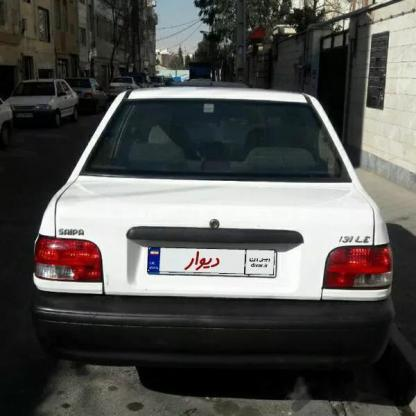Car: (23, 83, 396, 362), (7, 82, 85, 140)
